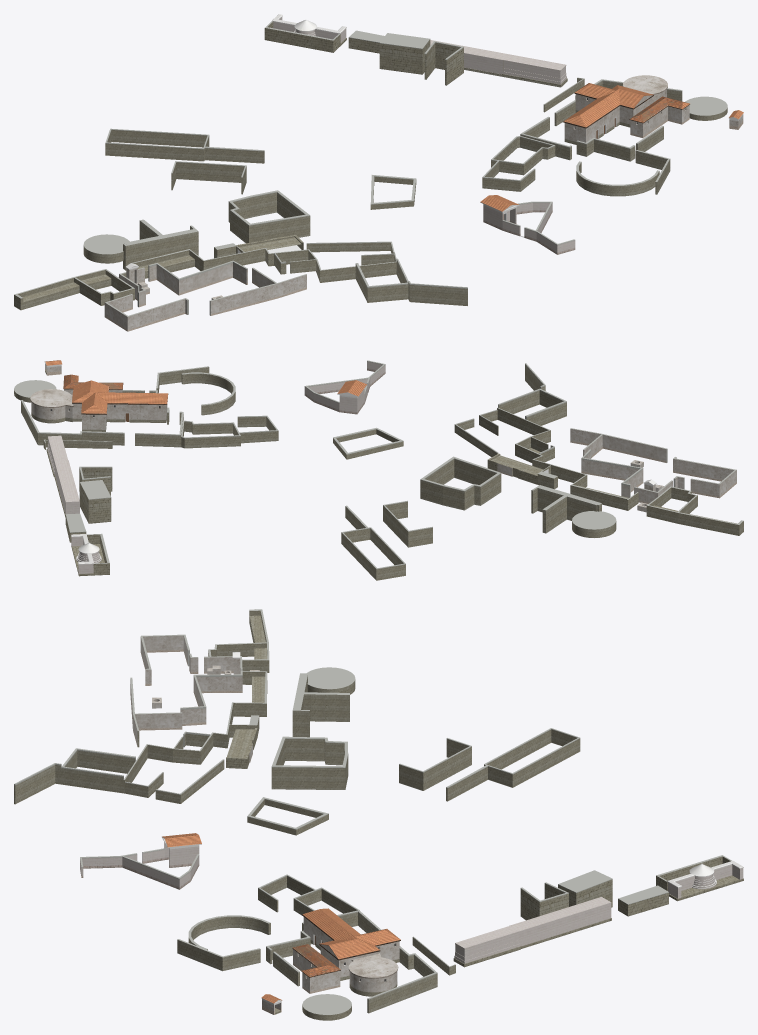
The model's file is perivoloi.fbx.
3 renders of one model, top to bottom at view 1: azimuth 30°, elevation 25°; view 2: azimuth 150°, elevation 25°; view 3: azimuth 270°, elevation 25°, orthographic. The views are drawn at different scales.
Parts seen in each view (by area): view 1: Model, Group3, Group2, Group1, Group8, Tritopateres; view 2: Model, Group3, Group2, Group1, Group8, Tritopateres; view 3: Model, Group3, Group2, Group1, Group8, Tritopateres.
Part boxes in pixels (x1=…): Model: x1=83, y1=30, x2=743, y2=270; Group3: x1=14, y1=235, x2=467, y2=331; Group2: x1=480, y1=195, x2=575, y2=254; Group1: x1=264, y1=14, x2=346, y2=52; Group8: x1=171, y1=161, x2=246, y2=194; Tritopateres: x1=370, y1=175, x2=416, y2=209; Model: x1=14, y1=360, x2=616, y2=580; Group3: x1=454, y1=363, x2=743, y2=535; Group2: x1=304, y1=360, x2=385, y2=414; Group1: x1=71, y1=533, x2=109, y2=576; Group8: x1=383, y1=500, x2=432, y2=547; Tritopateres: x1=333, y1=427, x2=403, y2=459; Model: x1=177, y1=667, x2=668, y2=1020; Group3: x1=14, y1=609, x2=269, y2=804; Group2: x1=80, y1=833, x2=201, y2=889; Group1: x1=656, y1=855, x2=743, y2=901; Group8: x1=399, y1=738, x2=471, y2=790; Tritopateres: x1=247, y1=797, x2=328, y2=835.
Bounding box in the file's own units: 204 × 9.36 × 159.
